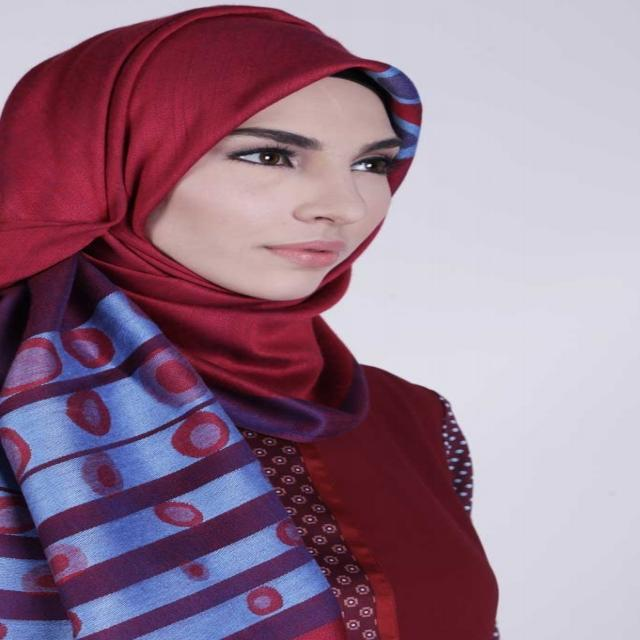head: (1, 10, 426, 318)
